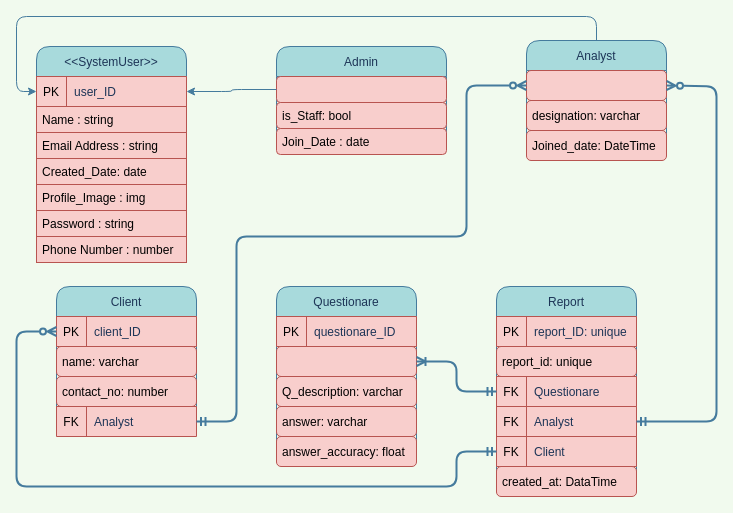
Image size: 733x513. Some labels were removed from this diagram. Each missing label, with the centre of its shape:
"CNIC: number" belongs at (596,85).
"is_super_admin: bool" belongs at (361,89).
"Question_id: int" belongs at (346,361).
